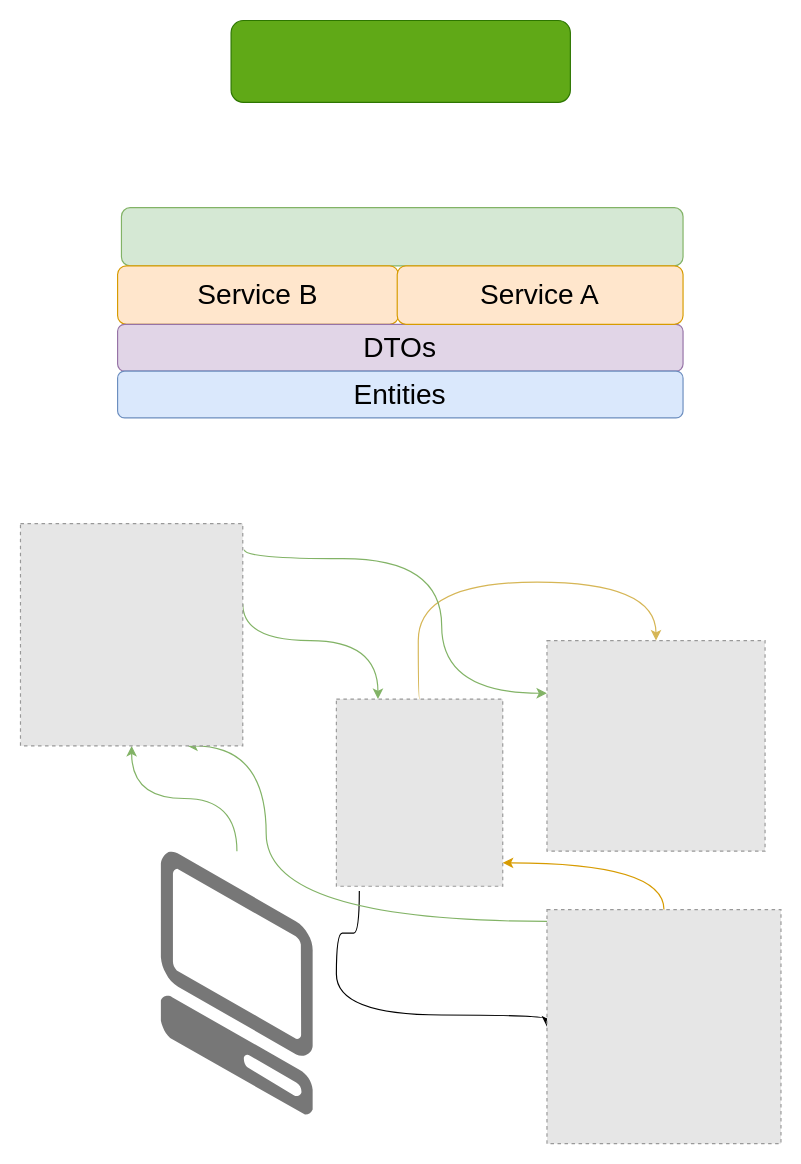
Some shapes in this 801 by 1164 pixel diagram are drawn without their labels. Grey dashed boxes stand in for pictures. The centre of each missing label's shape, as x and y in pixels:
"Coverage: 74 %" belongs at [400,60].
"Resolver B" belongs at [401,236].
